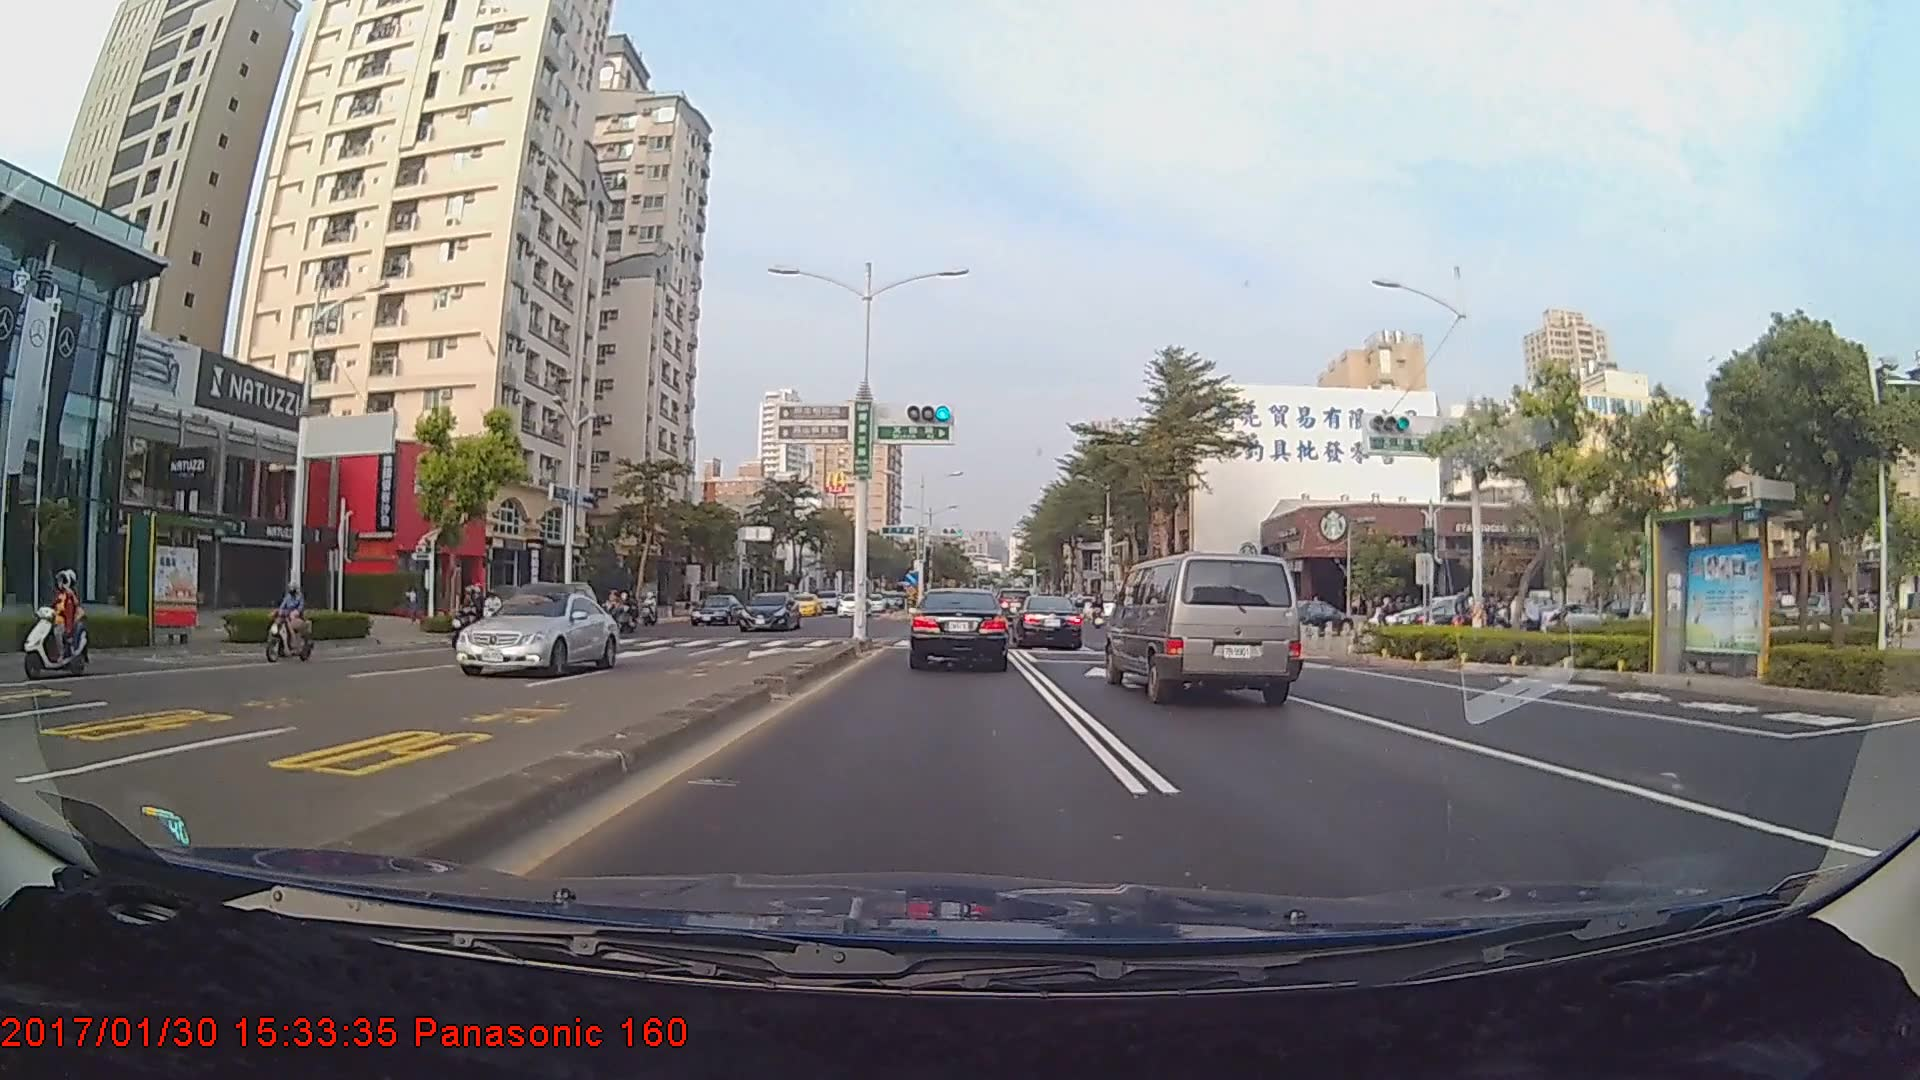pedestrian: (1523, 591, 1544, 650)
rider: (17, 570, 94, 679), (255, 574, 321, 663), (448, 581, 495, 649)
vehicle: (1108, 551, 1305, 704), (450, 588, 620, 678), (910, 585, 1009, 669), (499, 580, 599, 654), (1013, 594, 1084, 649), (735, 591, 801, 634), (690, 593, 744, 624), (835, 591, 872, 614)
